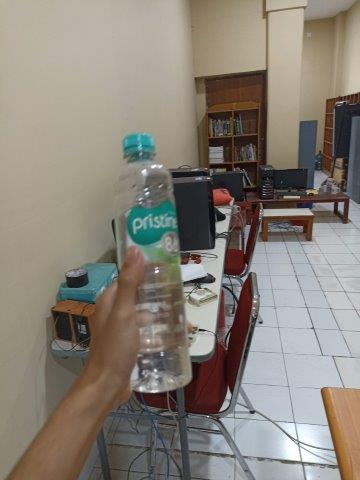botolplastik: (113, 132, 193, 393)
